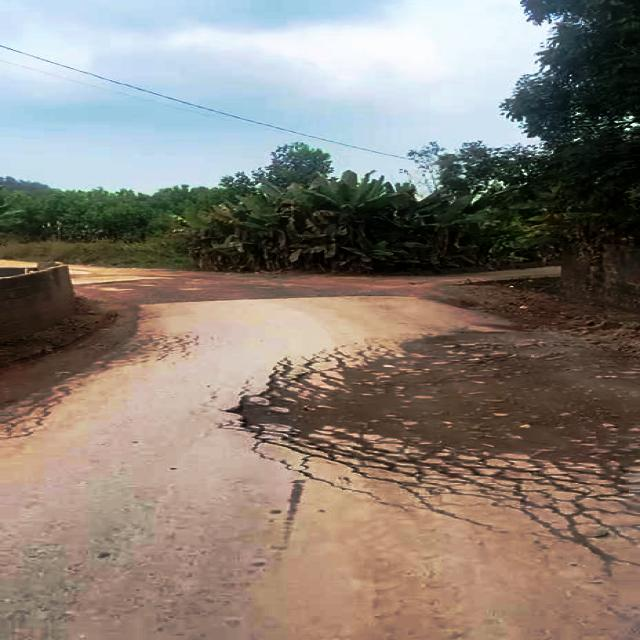pothole: (229, 324, 640, 498)
